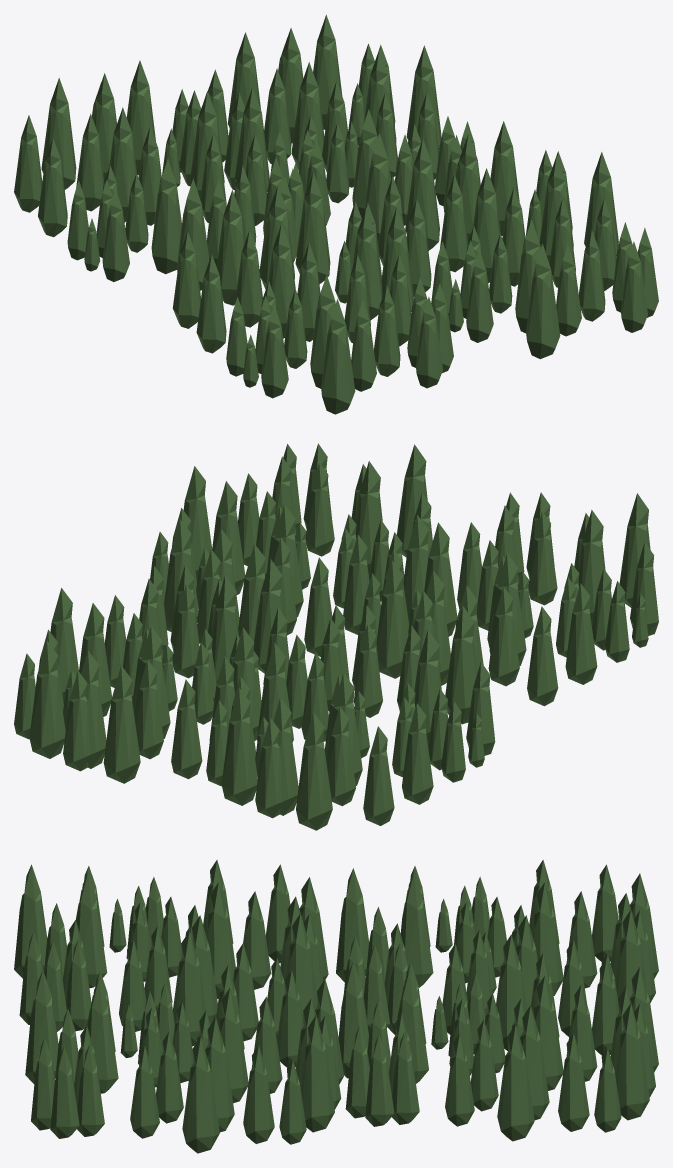
Rendered from grass.glb.
The picture shows the model from 3 angles, top to bottom: view 1: azimuth 30°, elevation 25°; view 2: azimuth 150°, elevation 25°; view 3: azimuth 270°, elevation 25°; orthographic projection. The views are drawn at different scales.
Parts seen in each view (by area): view 1: Cube; view 2: Cube; view 3: Cube.
Boxes of the visible parts, <box> form: Cube: <box>14,14,658,414</box>; Cube: <box>14,443,658,830</box>; Cube: <box>14,859,658,1153</box>.
Bounding box in the file's own units: 6.2 × 1.67 × 8.14.
